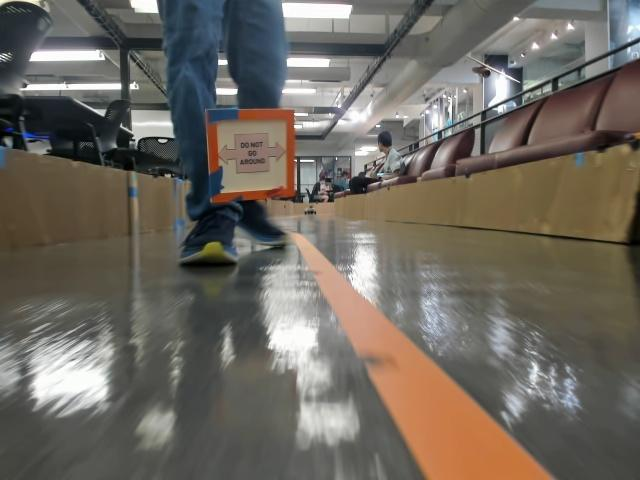Do Not Go Around: (217, 134, 284, 173)
